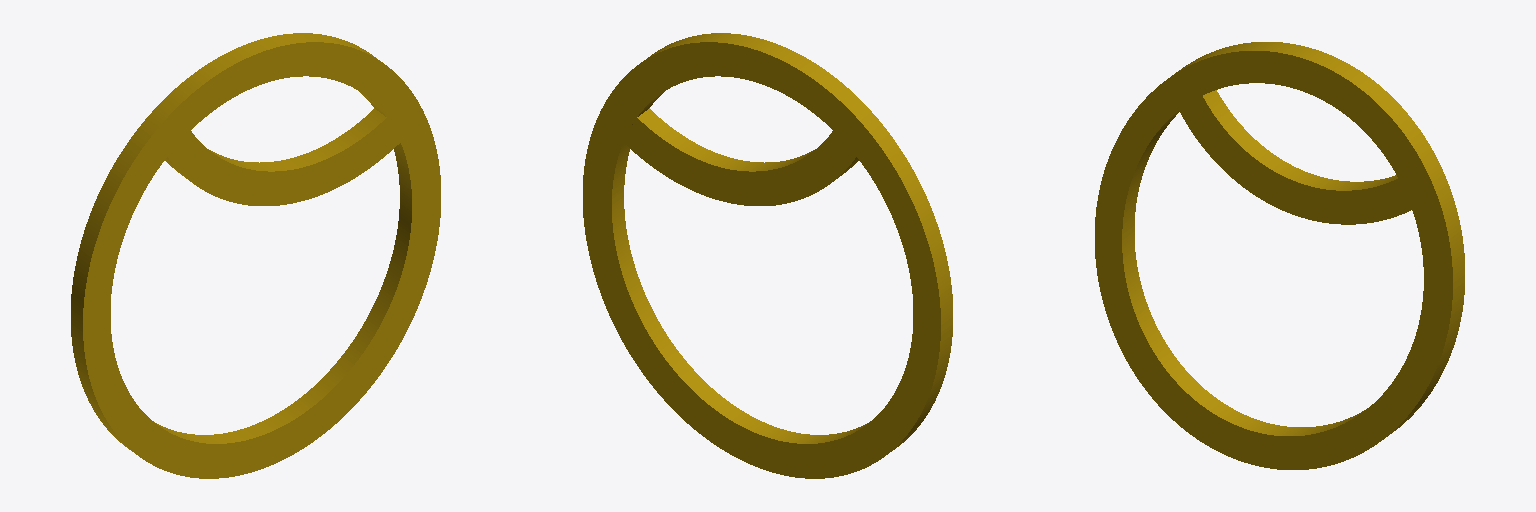
Rendered from clock_body_back.obj.
3 views of the same model, side by side, from view 1: azimuth 30°, elevation 25°; view 2: azimuth 150°, elevation 25°; view 3: azimuth 330°, elevation 25° (orthographic).
Visible parts, largest first — view 1: Cylinder.025_Cylinder.024, Cylinder.028_Cylinder.027; view 2: Cylinder.025_Cylinder.024, Cylinder.028_Cylinder.027; view 3: Cylinder.025_Cylinder.024, Cylinder.028_Cylinder.027.
Part boxes in pixels (x1,y1,x2,y2): Cylinder.025_Cylinder.024: (71,33,440,478); Cylinder.028_Cylinder.027: (159,104,422,205); Cylinder.025_Cylinder.024: (583,33,952,478); Cylinder.028_Cylinder.027: (623,108,858,205); Cylinder.025_Cylinder.024: (1095,42,1464,469); Cylinder.028_Cylinder.027: (1170,84,1434,224).
Bounding box in the file's own units: 2.68 × 2.99 × 0.1601.